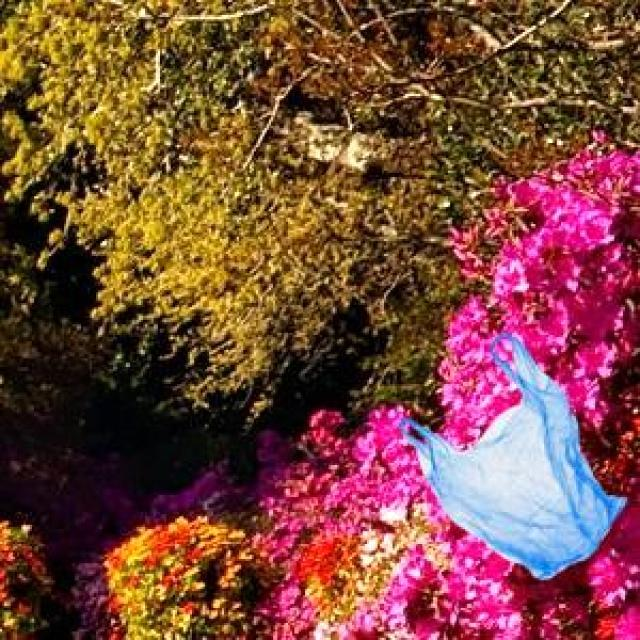Plastic_Bag: (398, 332, 624, 577)
